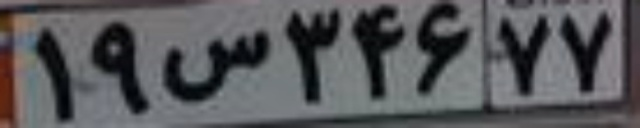1: (32, 31, 74, 118)
3: (280, 7, 344, 102)
4: (353, 5, 406, 98)
6: (415, 4, 477, 98)
7: (556, 8, 618, 95), (496, 10, 552, 97)
9: (87, 23, 152, 111)
sin: (158, 28, 274, 103)
